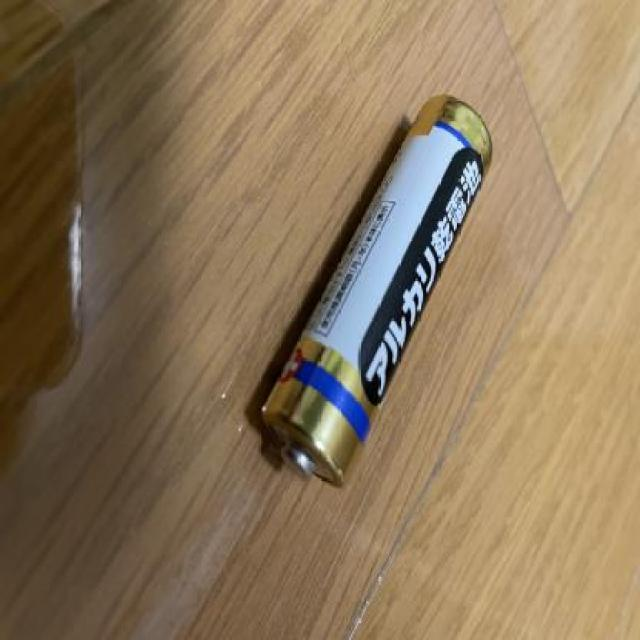AA: (255, 91, 496, 500)
